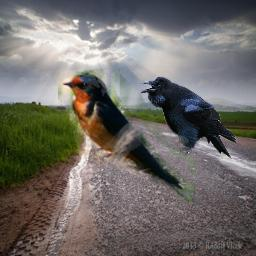Crow: (140, 76, 237, 160)
Swallow: (58, 69, 195, 202)
